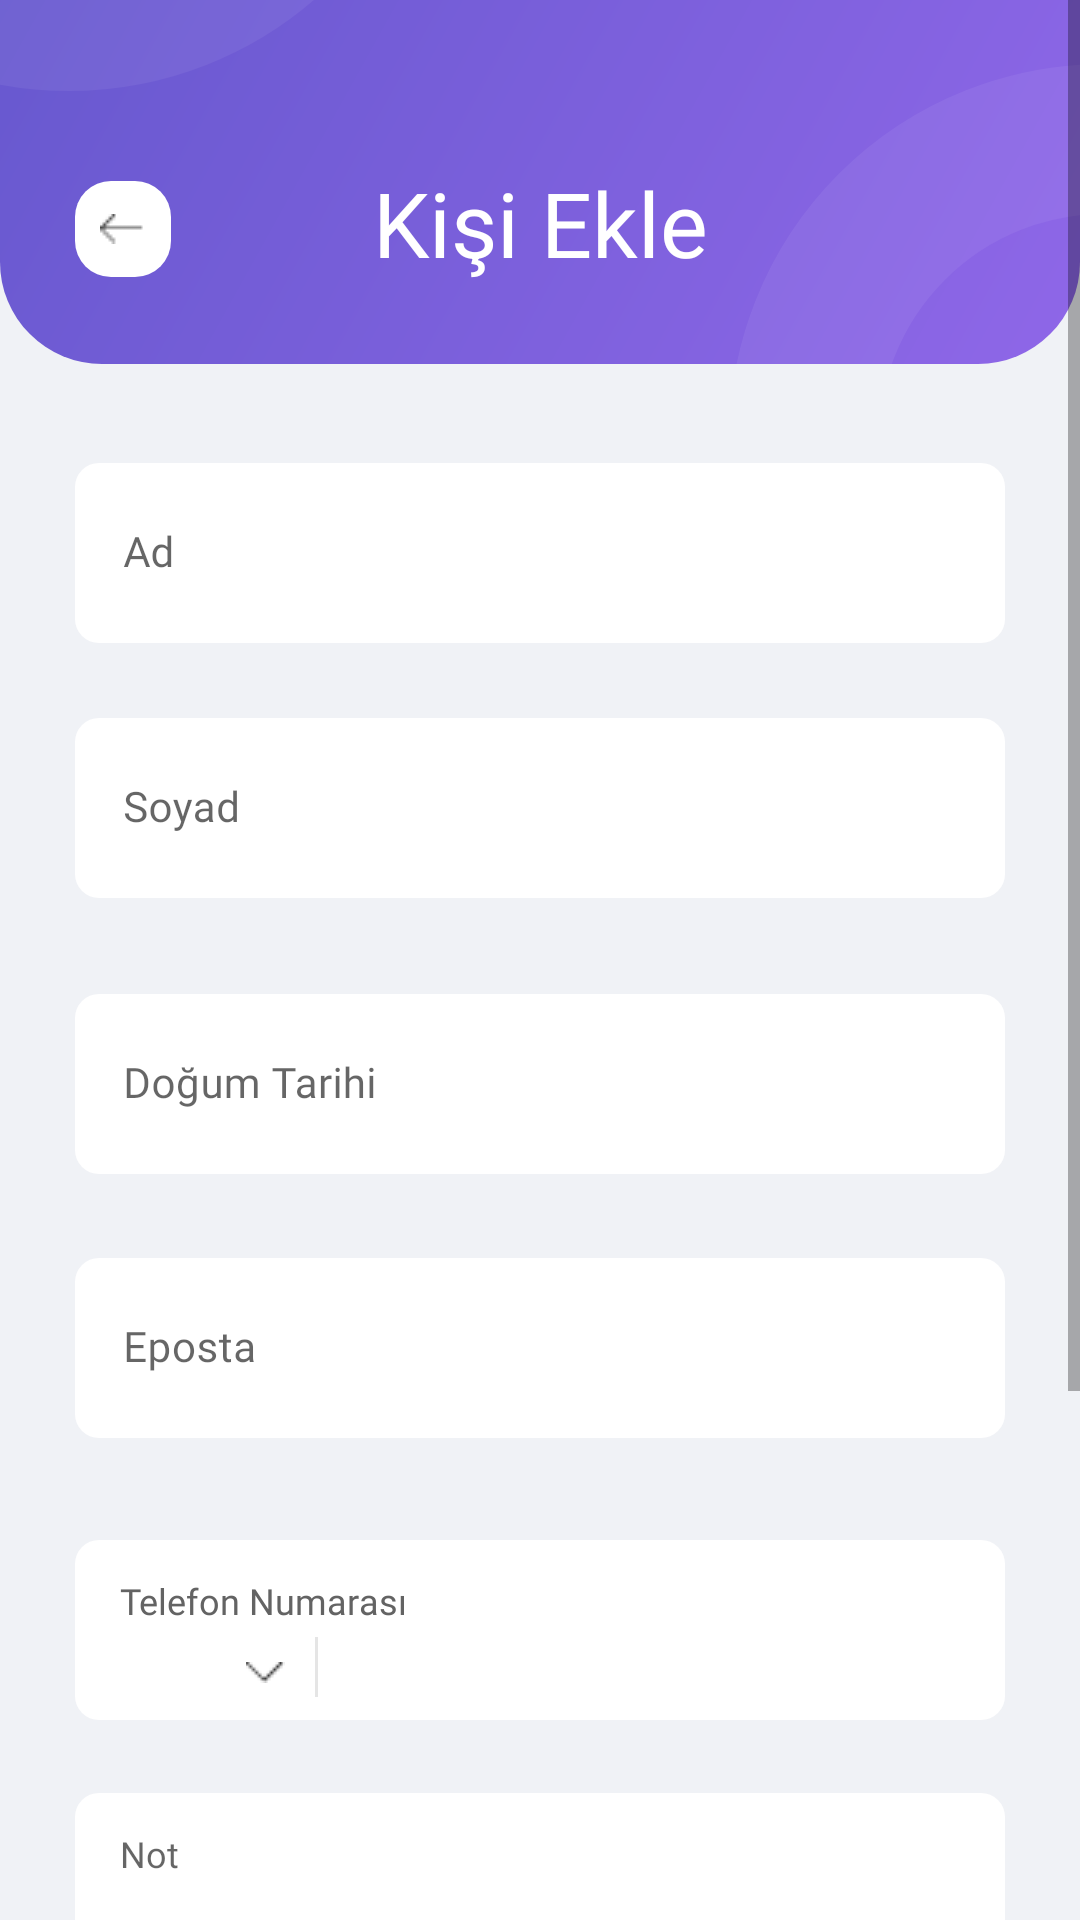

Icon bounding boxes for this 1080w x 1920h phone screenshot, format (x1, y1, x2, y2):
left arrow: (100, 214, 143, 244)
